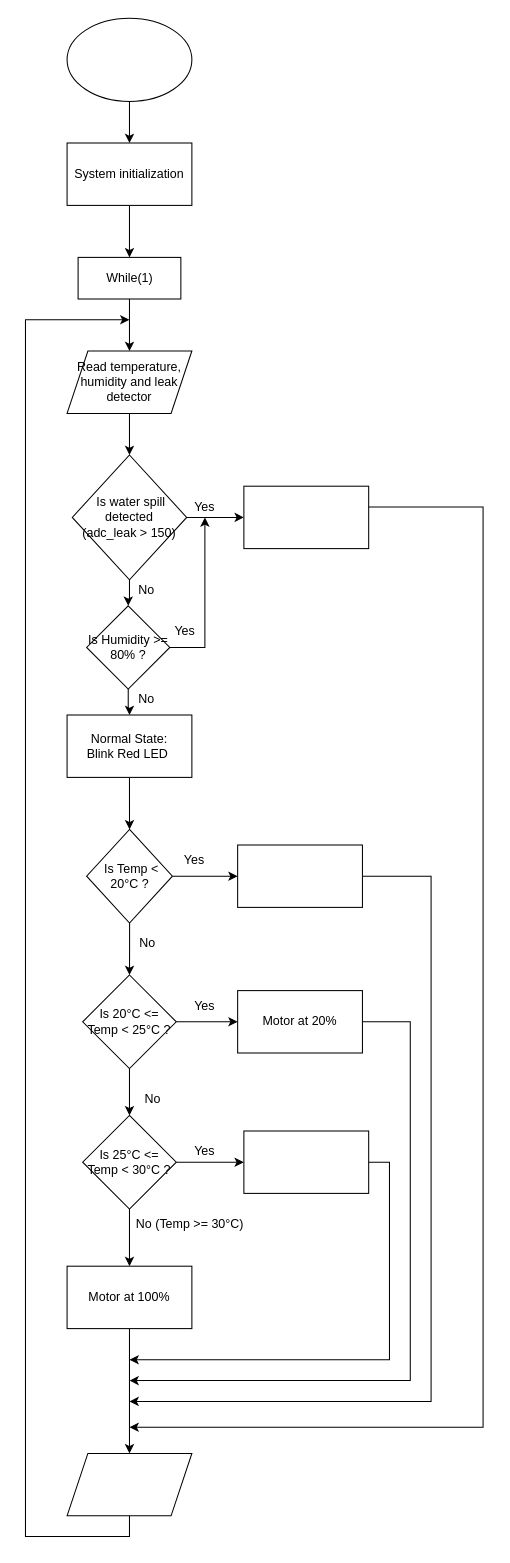
This 510x1563 diagram has some shape labels left out. The box of each missing label's shape, as (x1, y1, x2, y2) in pixels:
Emergency Shutoff: Pump off Turn Red LED on UART Warning: (243, 485, 369, 549)
Motor at 50%: (243, 1130, 369, 1193)
Motor off: (237, 844, 362, 907)
Send Telemetry: (66, 1452, 192, 1516)
Start: (66, 17, 192, 101)
